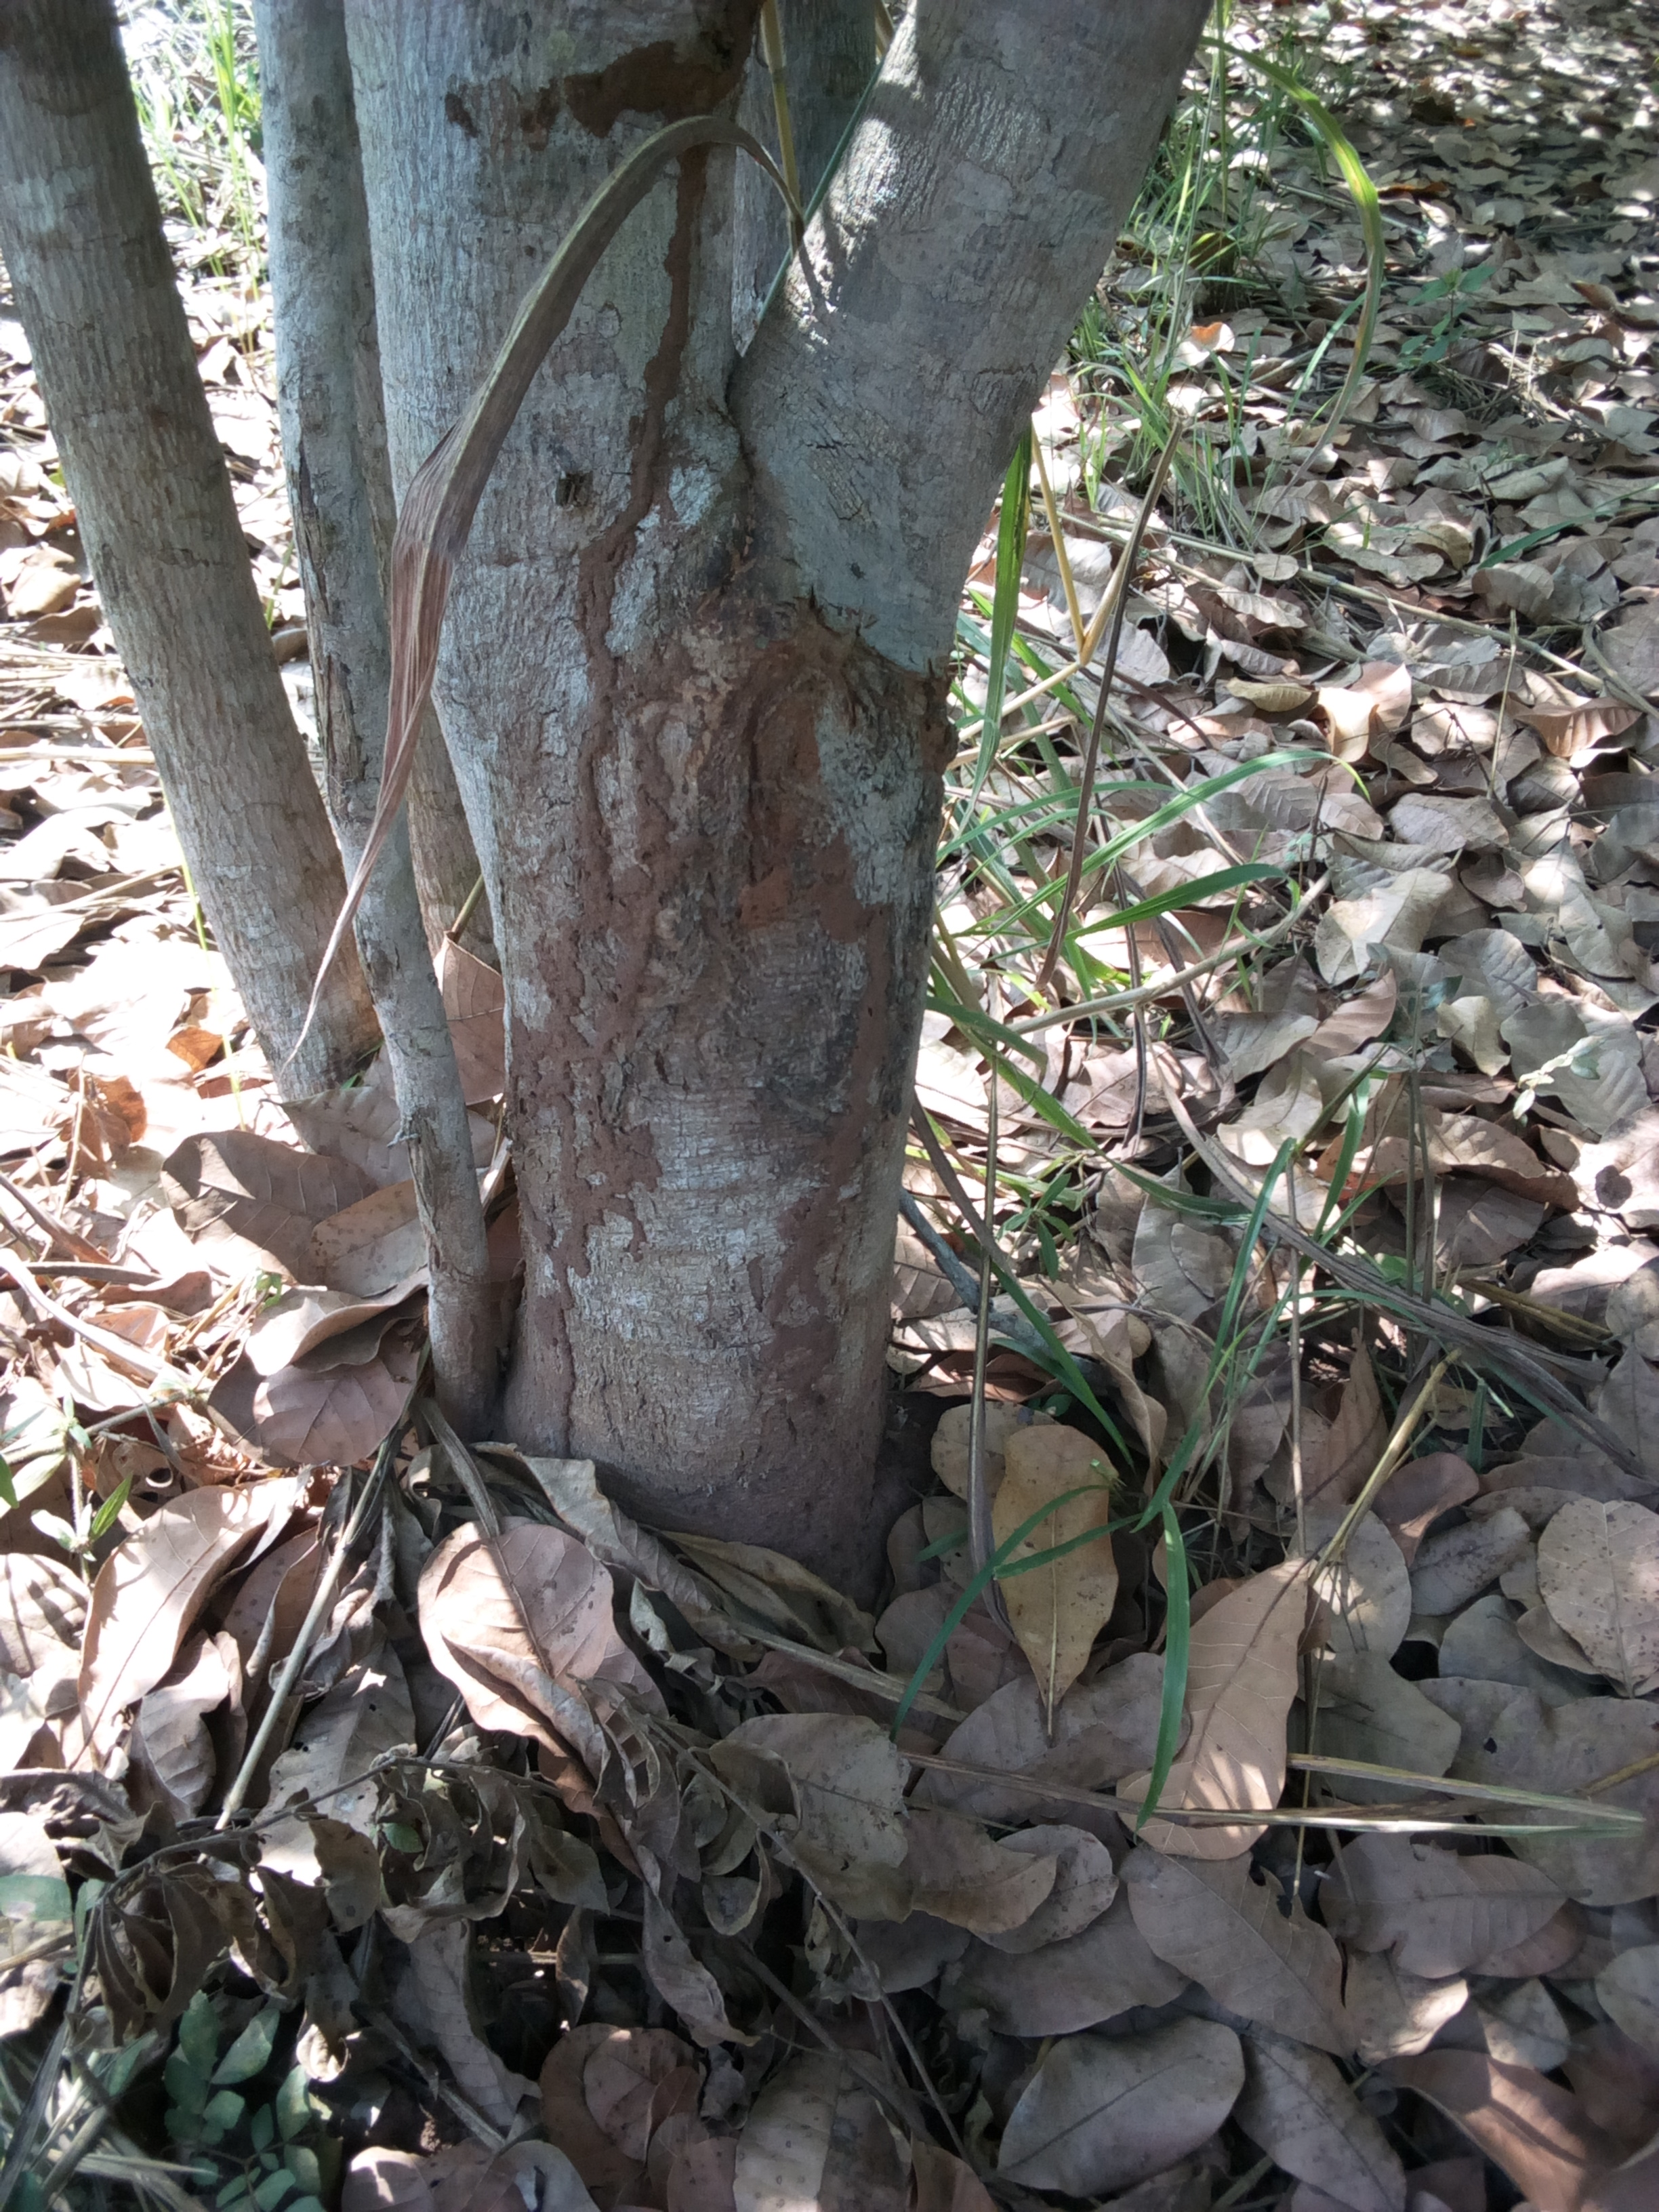Termites: (554, 608, 884, 1472), (636, 99, 741, 500)
